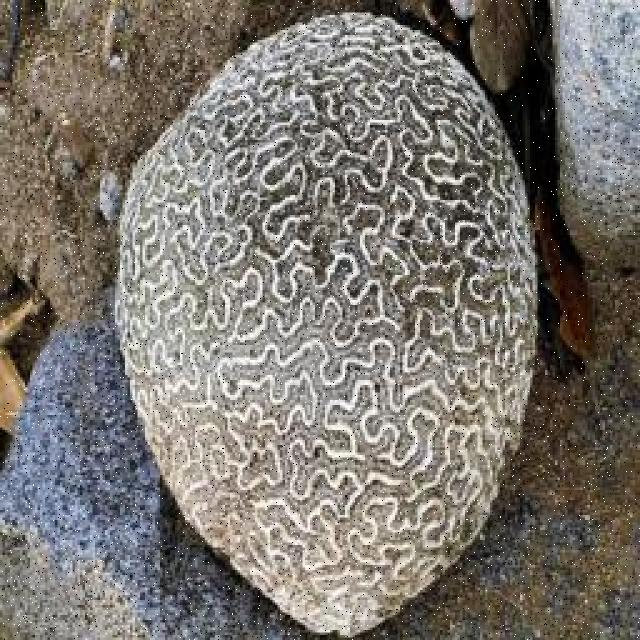reefs: (115, 10, 542, 634)
